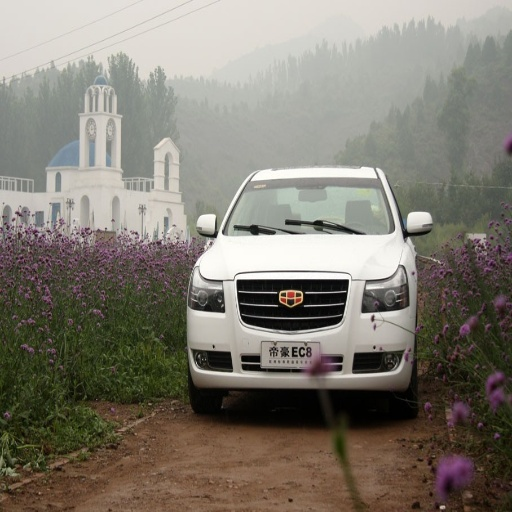front_bumper: (187, 272, 415, 391)
front_right_light: (189, 270, 225, 311)
hood: (201, 234, 402, 280)
